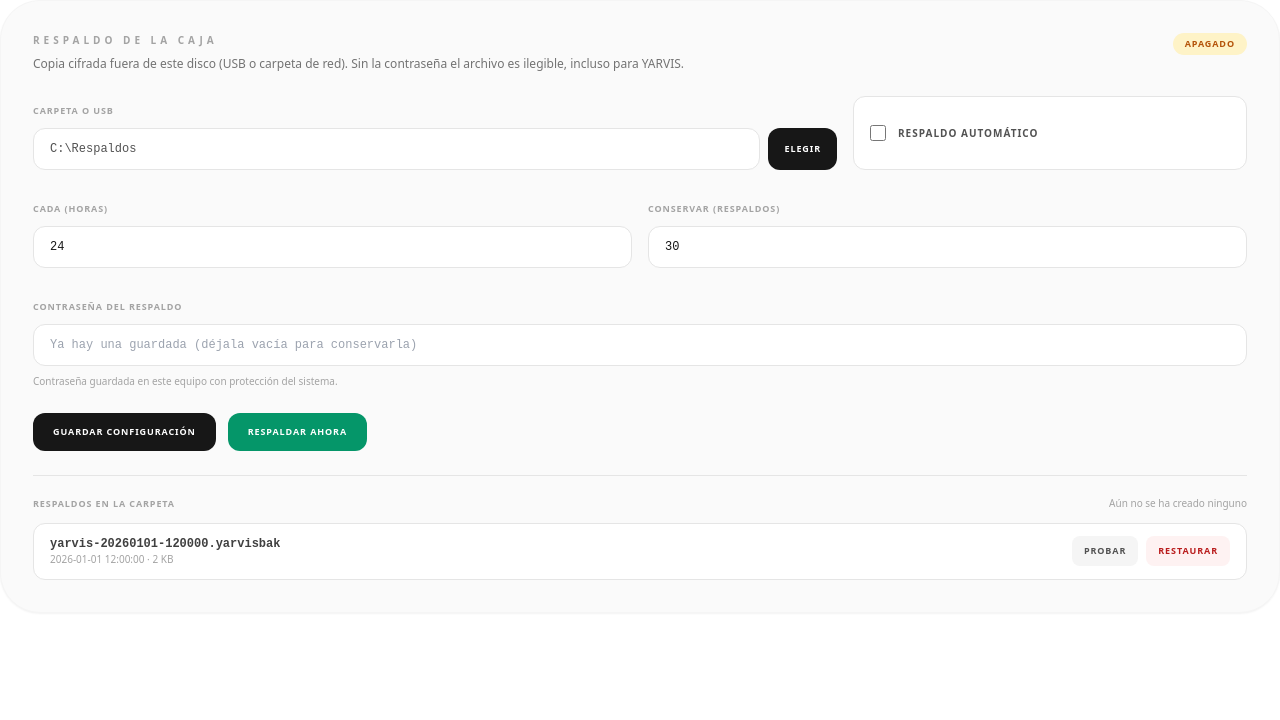
respaldos · UI › probar un respaldo muestra el conteo real de la base
This screenshot has width=1280, height=720.
Expected: the text "yarvis-20260101-120000.yarvisbak" is shown, [50,536,280,552]
What coordinates should you click on to do the following:
click the button "Probar"
I would click on:
 (1105, 551)
Its box is [1072,536,1138,566].
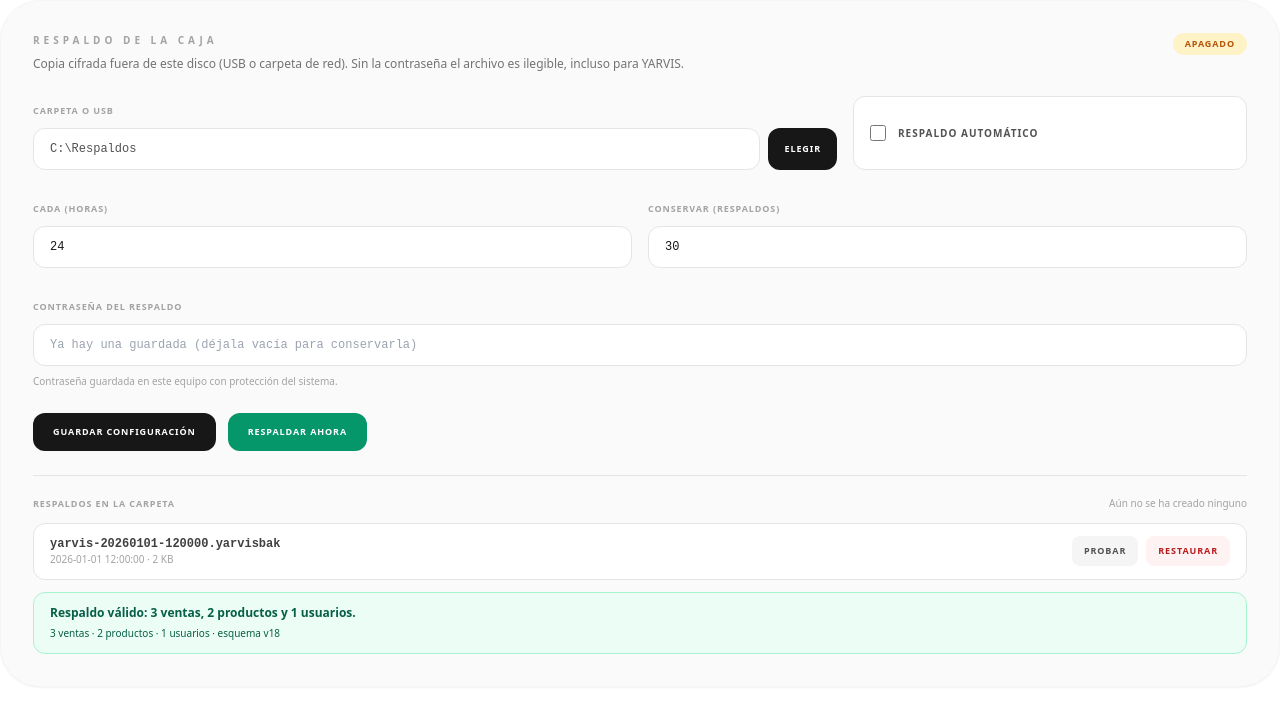
Now the text "Respaldo válido: 3 ventas, 2 productos y 1 usuarios." is shown, box [50,604,356,620]
Now the text "3 ventas · 2 productos · 1 usuarios · esquema v18" is shown, box [50,626,280,640]
